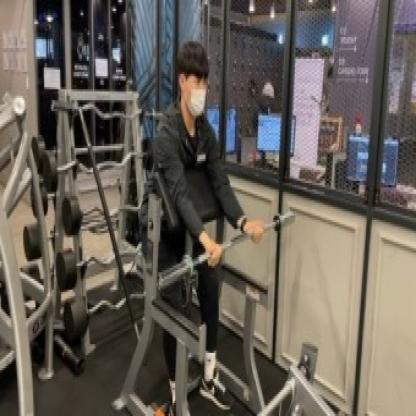arm curl machine: (112, 168, 266, 416)
